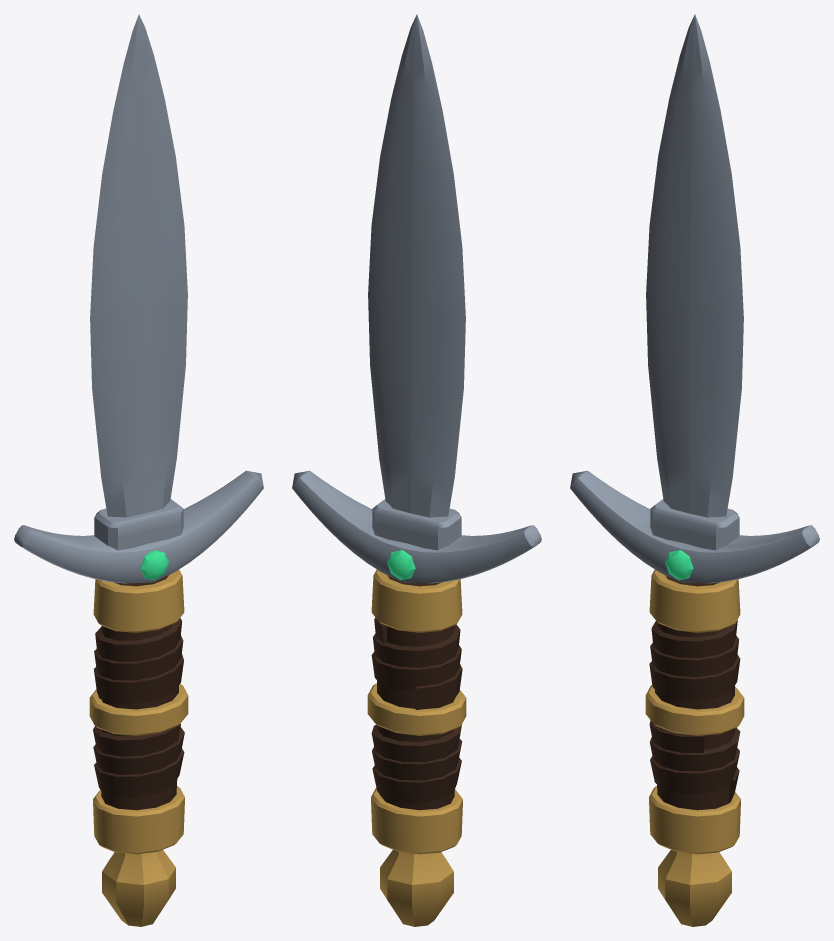
File: Dagger.fbx
3 renders of one model, left to right at view 1: azimuth 30°, elevation 25°; view 2: azimuth 150°, elevation 25°; view 3: azimuth 330°, elevation 25°, orthographic.
Parts seen in each view (by area): view 1: Dagger_Blade, Dagger_Grip, Dagger_Guard, Dagger_Rings, Dagger_Pommel, Dagger_Gem; view 2: Dagger_Blade, Dagger_Grip, Dagger_Guard, Dagger_Rings, Dagger_Pommel, Dagger_Gem; view 3: Dagger_Blade, Dagger_Grip, Dagger_Guard, Dagger_Rings, Dagger_Pommel, Dagger_Gem.
Part boxes in pixels (left/top/right/bottom): Dagger_Blade: left=90, top=14, right=187, bottom=517; Dagger_Grip: left=93, top=576, right=184, bottom=810; Dagger_Guard: left=14, top=470, right=263, bottom=583; Dagger_Rings: left=89, top=569, right=188, bottom=854; Dagger_Pommel: left=102, top=850, right=175, bottom=926; Dagger_Gem: left=140, top=550, right=168, bottom=580; Dagger_Blade: left=368, top=14, right=465, bottom=517; Dagger_Grip: left=371, top=576, right=462, bottom=810; Dagger_Guard: left=292, top=470, right=541, bottom=583; Dagger_Rings: left=367, top=569, right=466, bottom=854; Dagger_Pommel: left=380, top=850, right=453, bottom=926; Dagger_Gem: left=387, top=550, right=415, bottom=580; Dagger_Blade: left=646, top=14, right=743, bottom=517; Dagger_Grip: left=649, top=576, right=740, bottom=810; Dagger_Guard: left=570, top=470, right=819, bottom=583; Dagger_Rings: left=645, top=569, right=744, bottom=854; Dagger_Pommel: left=658, top=850, right=731, bottom=926; Dagger_Gem: left=665, top=550, right=693, bottom=580.
Size of the model in its own units: 9.7 by 34.55 by 3.07.
